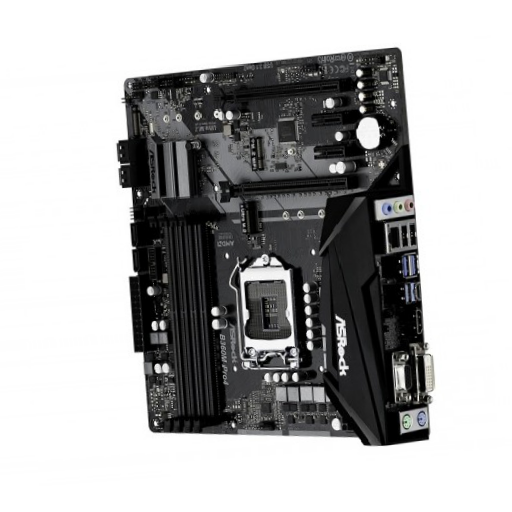CPU: (233, 252, 305, 372)
GPU: (218, 174, 351, 203), (216, 76, 356, 102)
MOTHERBOARD: (118, 47, 431, 444)
RAM: (162, 220, 230, 421)
SSD: (240, 200, 264, 234), (247, 136, 265, 171)
